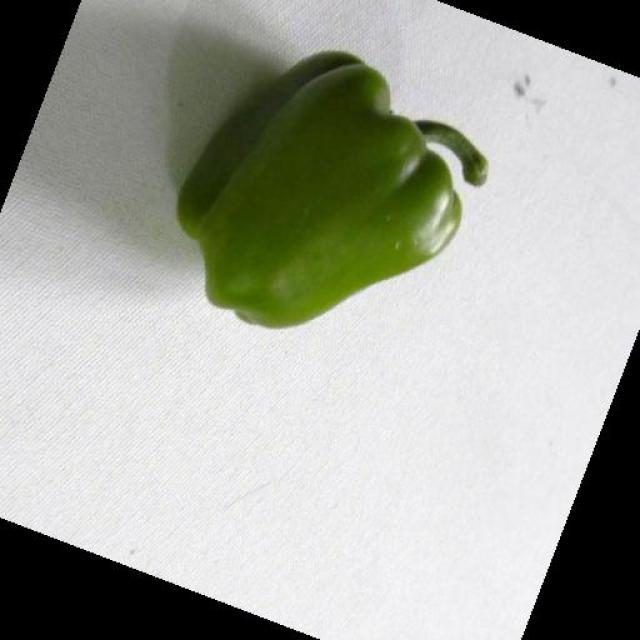Fresh_Capsicum: (211, 25, 478, 314)
